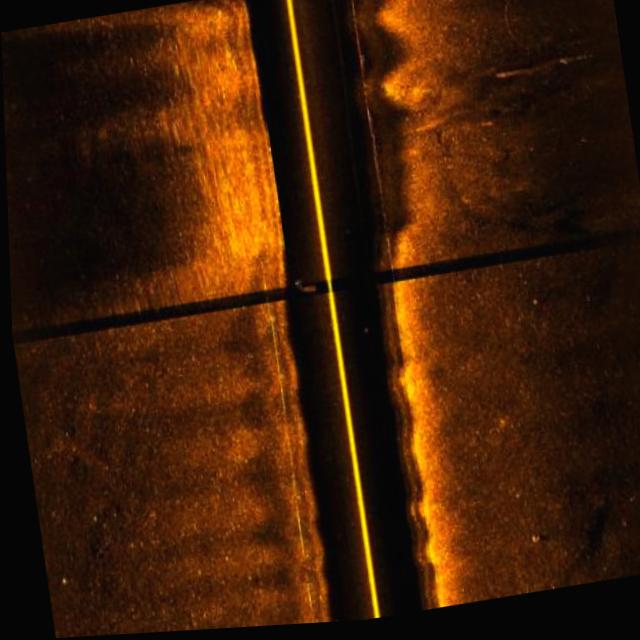mine: (519, 535, 551, 553)
